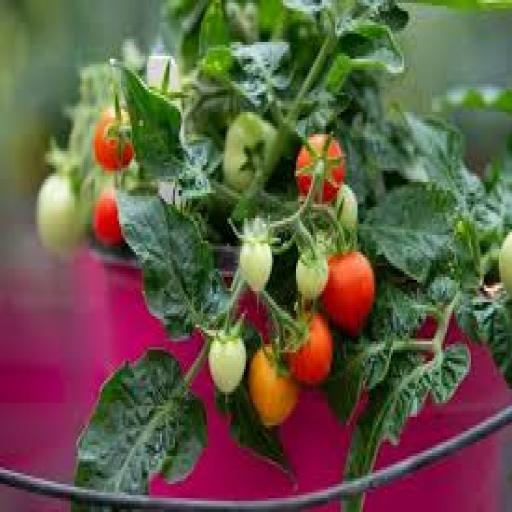tomato: (323, 252, 376, 335), (224, 112, 277, 193), (248, 347, 299, 428), (36, 174, 85, 257), (297, 135, 346, 204), (287, 314, 333, 386), (94, 110, 134, 173), (239, 219, 273, 293), (209, 336, 245, 394), (94, 188, 122, 246), (297, 255, 327, 299), (337, 185, 357, 229), (499, 233, 511, 296)
